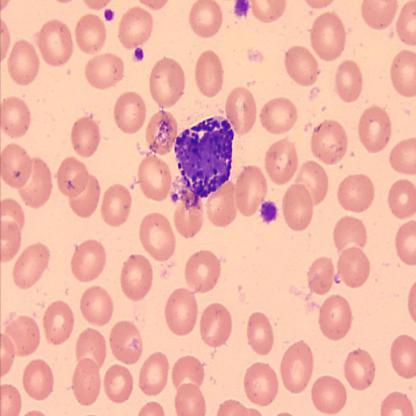Basophil: (172, 112, 235, 200)
